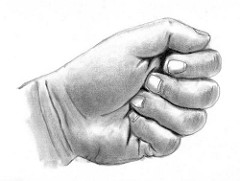fist: (74, 21, 218, 168)
